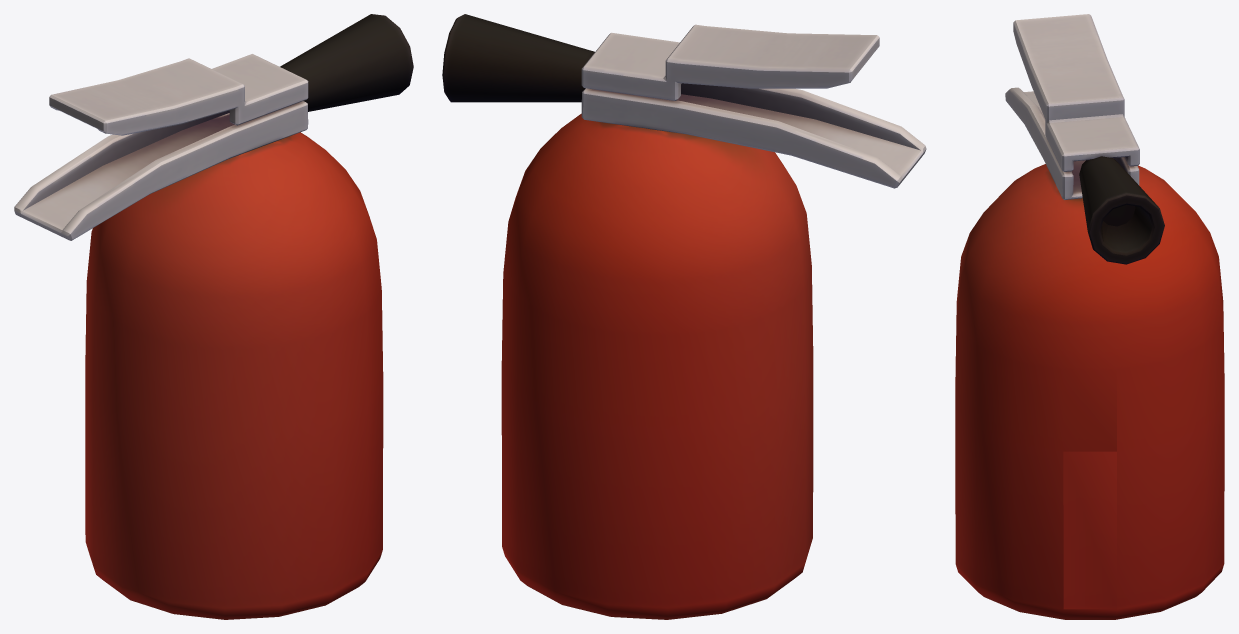
Rendered from fireExtinguisher.gltf.
The picture shows the model from 3 angles, left to right: view 1: azimuth 30°, elevation 25°; view 2: azimuth 150°, elevation 25°; view 3: azimuth 270°, elevation 25°; orthographic projection. The views are drawn at different scales.
Parts seen in each view (by area): view 1: Object_5.001, Object_5.002; view 2: Object_5.001; view 3: Object_5.001, Object_5.003, Object_5.002.
Part boxes in pixels (x1,y1,x2,y2): Object_5.001: (14, 14, 413, 619); Object_5.002: (103, 101, 305, 165); Object_5.001: (442, 14, 926, 619); Object_5.001: (955, 14, 1224, 619); Object_5.003: (1062, 147, 1137, 609); Object_5.002: (1063, 155, 1137, 242).
Bounding box in the file's own units: 1.23 × 1.5 × 0.7717.
1 material, 1 textured.
